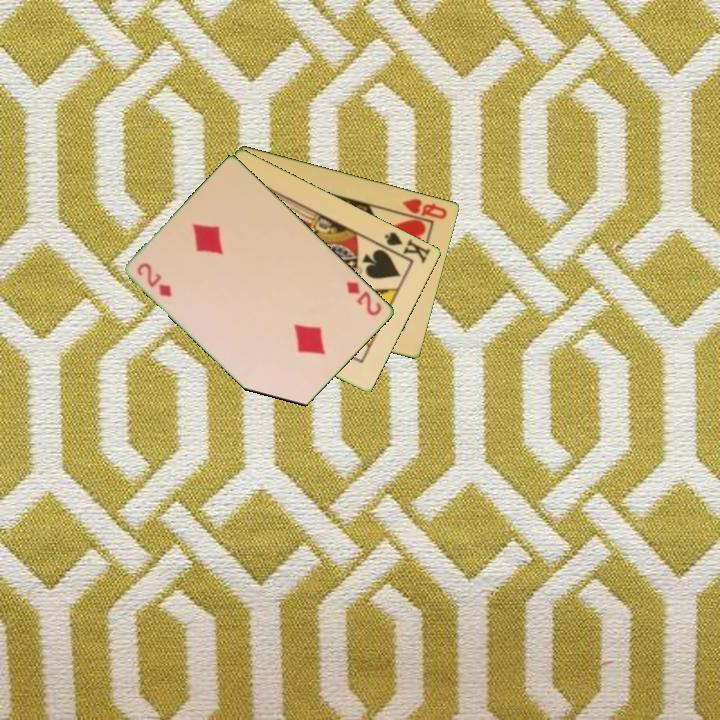2d: (343, 278, 385, 319), (134, 259, 175, 300)
Ks: (381, 228, 434, 266)
Qh: (399, 195, 450, 222)
